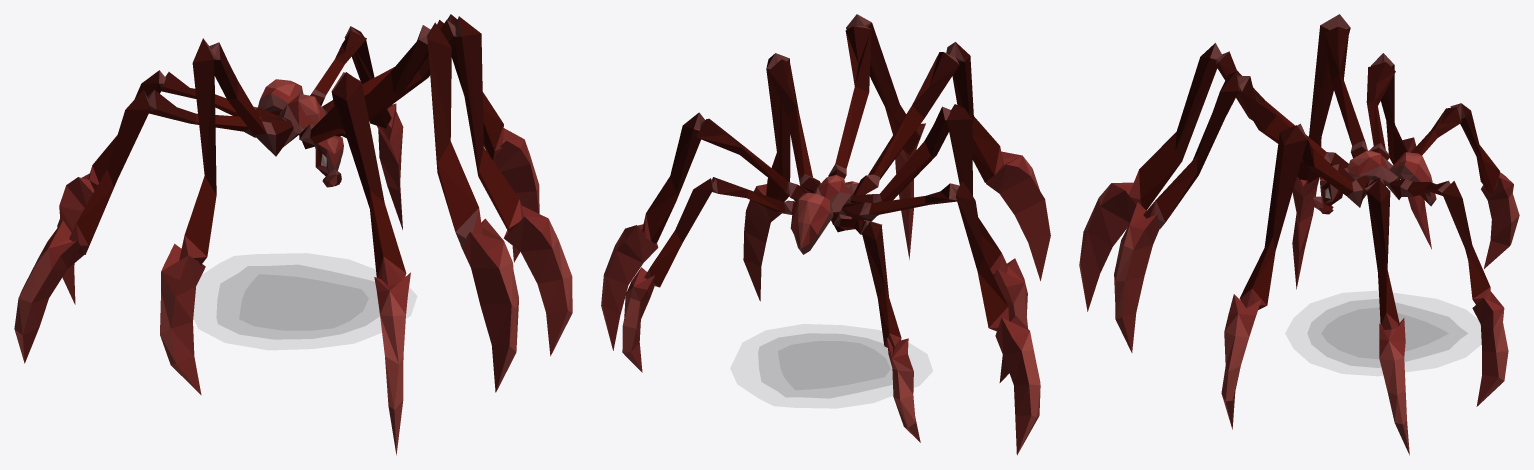
File: sarachnis.gltf
3 views of the same model, side by side, from view 1: azimuth 30°, elevation 25°; view 2: azimuth 150°, elevation 25°; view 3: azimuth 270°, elevation 25° (orthographic). The views are drawn at different scales.
Size of the model in its own units: 366 by 247 by 317.
2 materials, 2 textured.
